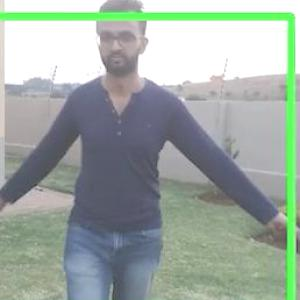land: (0, 9, 296, 299)
